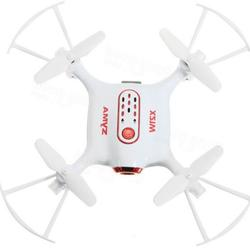drone: (1, 1, 250, 247)
